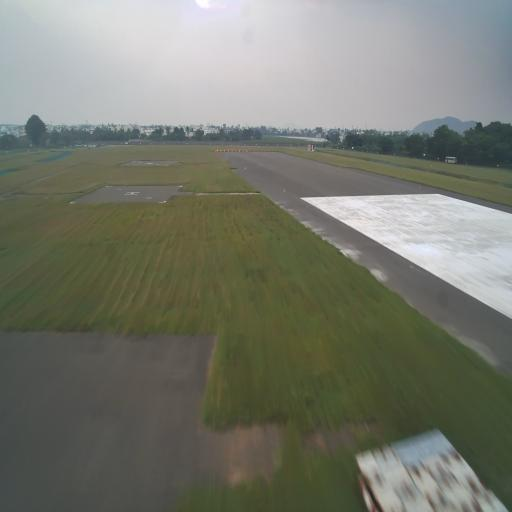off: (409, 263, 413, 270), (265, 180, 268, 184), (306, 204, 308, 208), (356, 188, 357, 191)
on: (283, 189, 285, 192), (253, 150, 255, 153), (418, 186, 420, 189), (245, 166, 246, 170), (217, 149, 218, 153), (220, 150, 222, 152), (231, 150, 233, 152), (235, 150, 237, 152), (242, 150, 244, 152), (246, 150, 248, 152), (226, 156, 227, 159), (228, 149, 229, 152), (340, 166, 341, 169), (215, 150, 216, 152), (224, 150, 225, 152), (239, 150, 240, 152), (250, 150, 251, 152), (299, 156, 300, 158)
